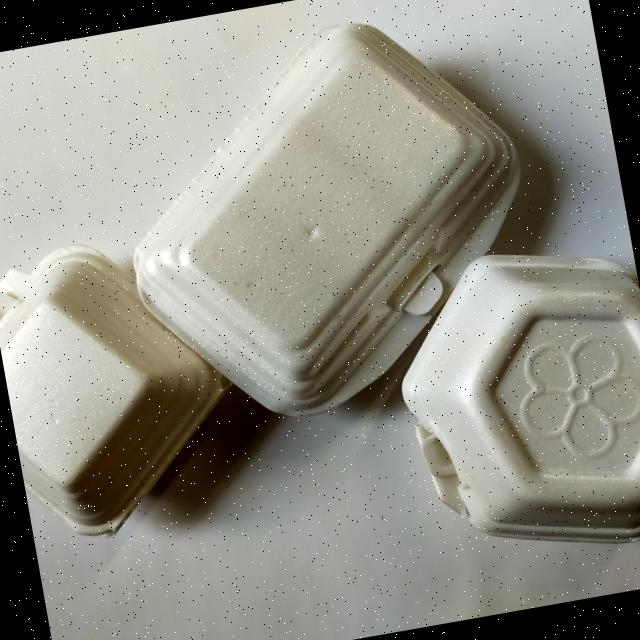styrofoam: (95, 0, 558, 442), (379, 227, 640, 577), (0, 219, 255, 550)
